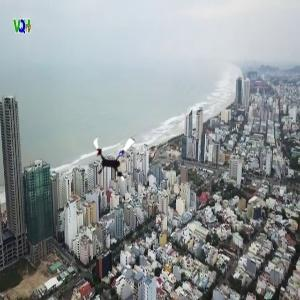drone: (88, 130, 143, 185)
